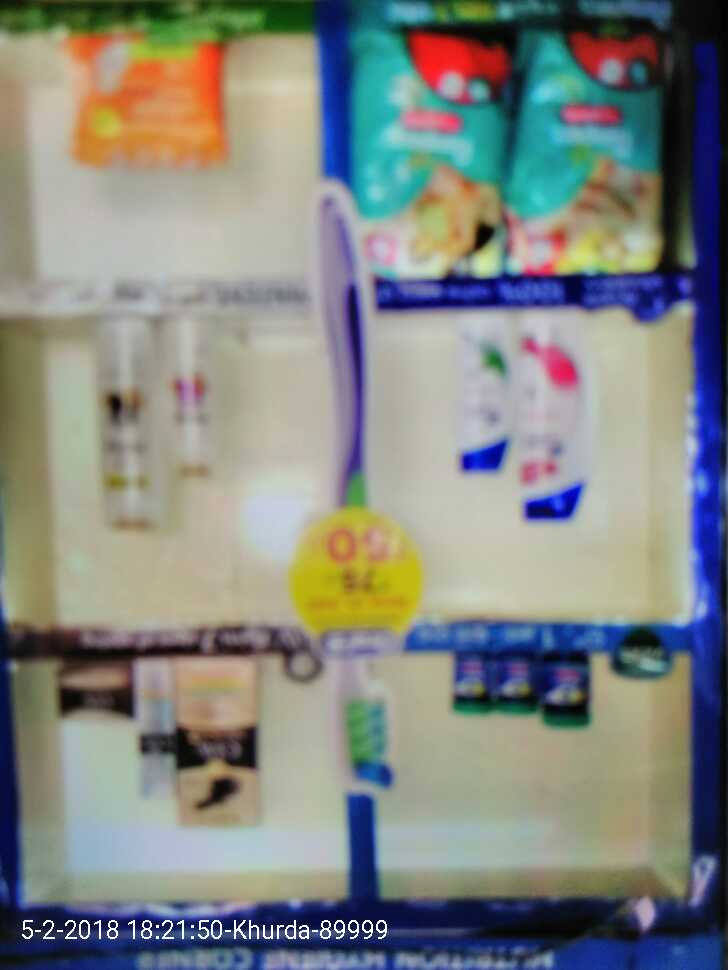vicks: (439, 643, 606, 741)
